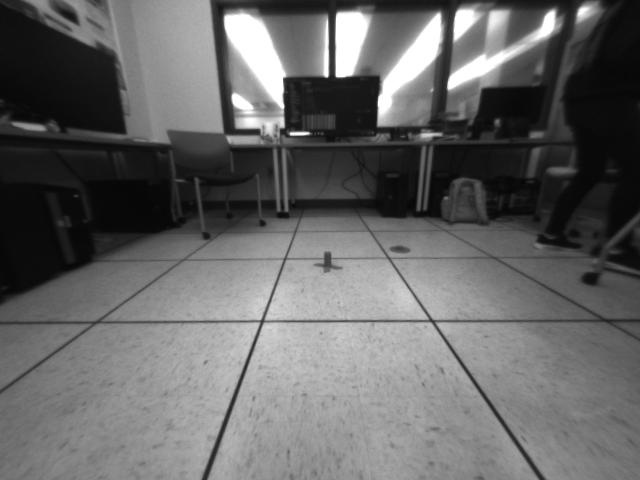X: (314, 251, 344, 273)
